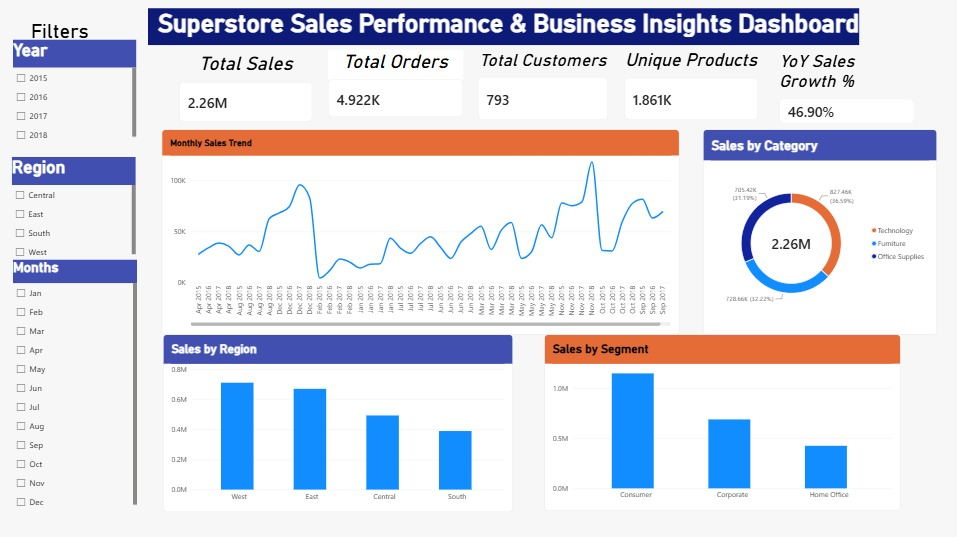

The page's visual inventory and layout, read from the dashboard file:
{"tool":"powerbi","page":{"name":"Page 1","canvas":[1920,1080],"ordinal":0},"visuals":[{"type":"cardVisual","title":"Total Sales","fields":{"Data":["Sum(superstore_cleaned.Sales)"]},"box":[362.5,110,266.4,139.3],"z":0},{"type":"cardVisual","title":"Total Orders","fields":{"Data":["Count(superstore_cleaned.Order_ID)"]},"box":[660,105,270,135],"z":1000},{"type":"cardVisual","title":"Total Customers","fields":{"Data":["Count(superstore_cleaned.Customer_ID)"]},"box":[960,105,260,140],"z":2000},{"type":"cardVisual","title":"Unique Products","fields":{"Data":["Count(superstore_cleaned.Product_ID)"]},"box":[1252.5,105,267.5,140],"z":3000},{"type":"lineChart","title":"Monthly Sales Trend","fields":{"Category":["Calendar.Year-Month"],"Y":["Sum(superstore_cleaned.Sales)"]},"box":[327.5,265,1035,410],"z":5000},{"type":"textbox","title":"Superstore Sales Performance & Business Insights Dashboard","box":[300,22,1422,150],"z":5001},{"type":"slicer","title":"Year","fields":{"Values":["Calendar.Year"]},"box":[30,86,246,206],"z":5002},{"type":"textbox","title":"Filters","box":[0,46,247.5,40],"z":5003},{"type":"slicer","title":"Region","fields":{"Values":["superstore_cleaned.Region"]},"box":[28,320,248,206],"z":5004},{"type":"slicer","title":"Months","fields":{"Values":["Calendar.Month"]},"box":[30,526,248,502],"z":5005},{"type":"donutChart","title":"Sales by Category","fields":{"Category":["superstore_cleaned.Category"],"Y":["Sum(superstore_cleaned.Sales)"]},"box":[1410,265,468.3,410],"z":5006},{"type":"clusteredColumnChart","title":"Sales by Region","fields":{"Category":["superstore_cleaned.Region"],"Y":["Sum(superstore_cleaned.Sales)"]},"box":[330,675,700,355],"z":5007},{"type":"clusteredColumnChart","title":"Sales by Segment","fields":{"Category":["superstore_cleaned.Segment"],"Y":["Sum(superstore_cleaned.Sales)"]},"box":[1092.5,675,712.5,352.5],"z":5008},{"type":"cardVisual","title":"YoY Sales Growth %","fields":{"Data":["superstore_cleaned.YoY Sales Growth %"]},"box":[1562.5,107.5,270,145],"z":5009}]}

Visuals, with their boxes in screenshot pixels (x1, y1, x2, y2), scaled from the page's 1920x1080 canvas onto the 957x537 screenshot:
"Total Sales" cardVisual: l=181, t=55, r=313, b=124
"Total Orders" cardVisual: l=329, t=52, r=464, b=119
"Total Customers" cardVisual: l=478, t=52, r=608, b=122
"Unique Products" cardVisual: l=624, t=52, r=758, b=122
"Monthly Sales Trend" lineChart: l=163, t=132, r=679, b=336
"Superstore Sales Performance & Business Insights Dashboard" textbox: l=150, t=11, r=858, b=86
"Year" slicer: l=15, t=43, r=138, b=145
"Filters" textbox: l=0, t=23, r=123, b=43
"Region" slicer: l=14, t=159, r=138, b=262
"Months" slicer: l=15, t=262, r=139, b=511
"Sales by Category" donutChart: l=703, t=132, r=936, b=336
"Sales by Region" clusteredColumnChart: l=164, t=336, r=513, b=512
"Sales by Segment" clusteredColumnChart: l=545, t=336, r=900, b=511
"YoY Sales Growth %" cardVisual: l=779, t=53, r=913, b=126
